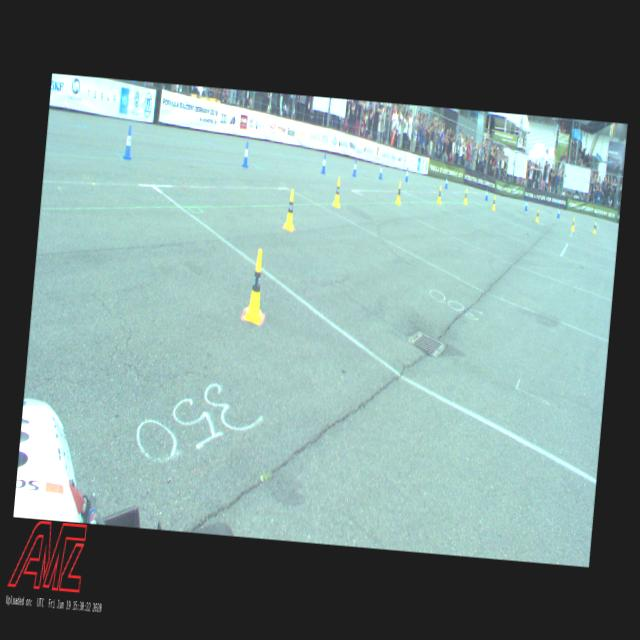blue_cone: (123, 124, 134, 160), (242, 141, 250, 168), (321, 154, 326, 174), (352, 158, 357, 176), (404, 167, 409, 182), (443, 175, 448, 188), (378, 162, 382, 178), (484, 188, 488, 200), (556, 206, 560, 218), (524, 198, 528, 210)
yellow_cone: (243, 248, 268, 324), (282, 188, 296, 230), (333, 177, 342, 206), (396, 182, 402, 204), (436, 186, 442, 203), (463, 188, 468, 204), (492, 196, 496, 210), (535, 208, 539, 222), (570, 217, 574, 230), (592, 221, 596, 232)
